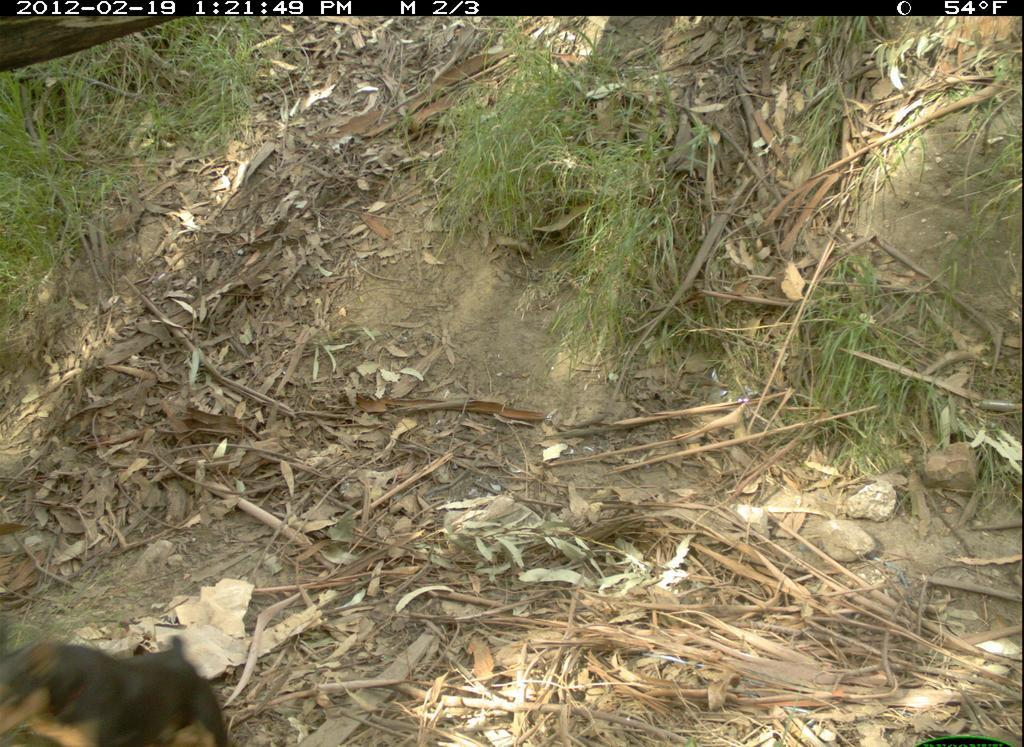dog: (6, 629, 226, 747)
